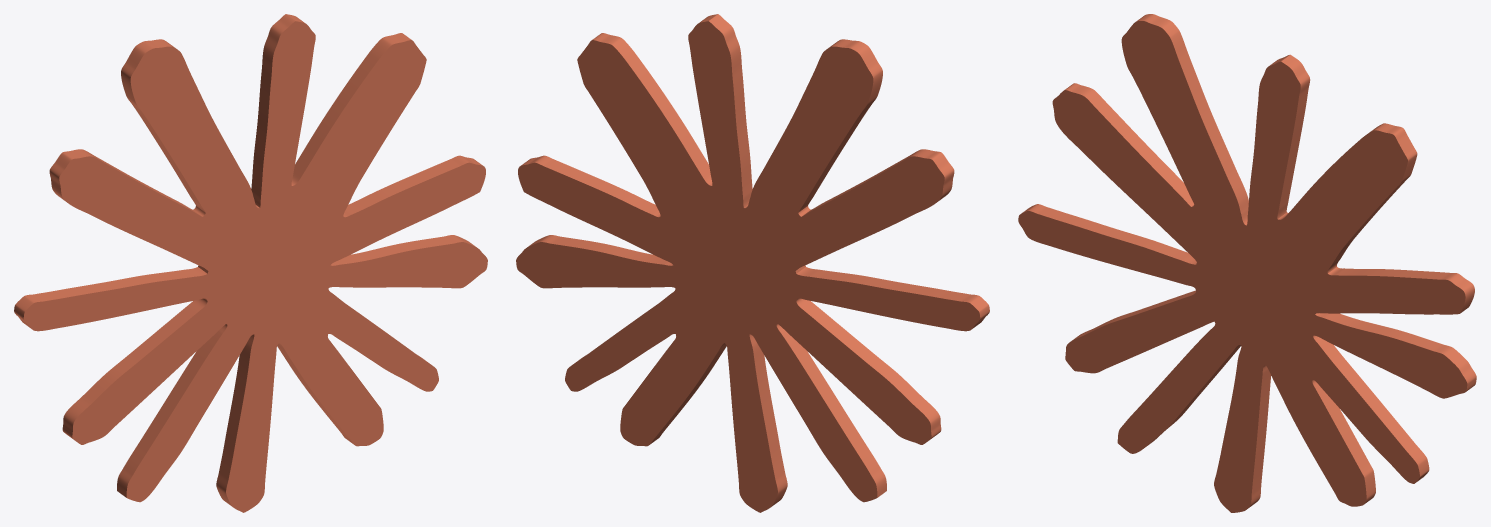
Rendered from claude.glb.
3 renders of one model, left to right at view 1: azimuth 30°, elevation 25°; view 2: azimuth 150°, elevation 25°; view 3: azimuth 330°, elevation 25°, orthographic. The views are drawn at different scales.
Parts seen in each view (by area): view 1: Curve.001; view 2: Curve.001; view 3: Curve.001.
Boxes of the visible parts, left/top/right/bottom form: Curve.001: left=14, top=14, right=487, bottom=512; Curve.001: left=516, top=14, right=989, bottom=512; Curve.001: left=1018, top=14, right=1476, bottom=512.
Bounding box in the file's own units: 0.3144 × 0.3149 × 0.0114.
